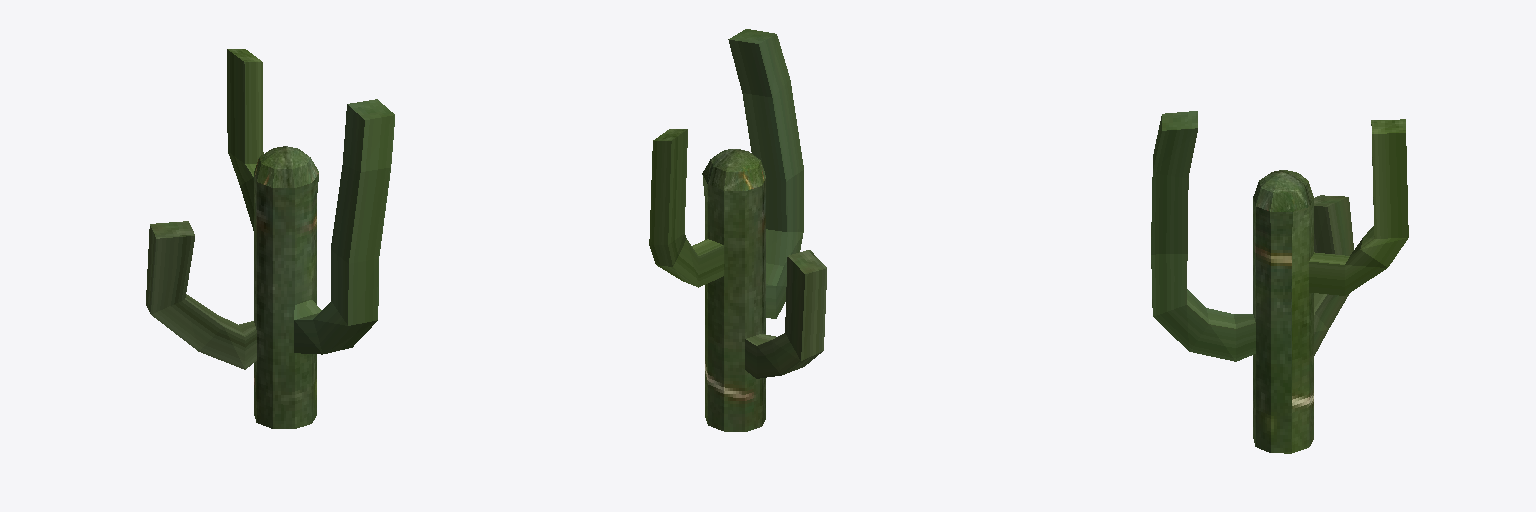
3 renders of one model, left to right at view 1: azimuth 30°, elevation 25°; view 2: azimuth 150°, elevation 25°; view 3: azimuth 270°, elevation 25°, orthographic.
Visible parts, largest first — view 1: pCylinder1; view 2: pCylinder1; view 3: pCylinder1.
Part boxes in pixels (bbox=[...]): pCylinder1: bbox=[146, 49, 394, 428]; pCylinder1: bbox=[649, 29, 826, 431]; pCylinder1: bbox=[1151, 111, 1408, 453].
Bounding box in the file's own units: 7.07 × 14.22 × 9.78.
1 materials, 1 textured.